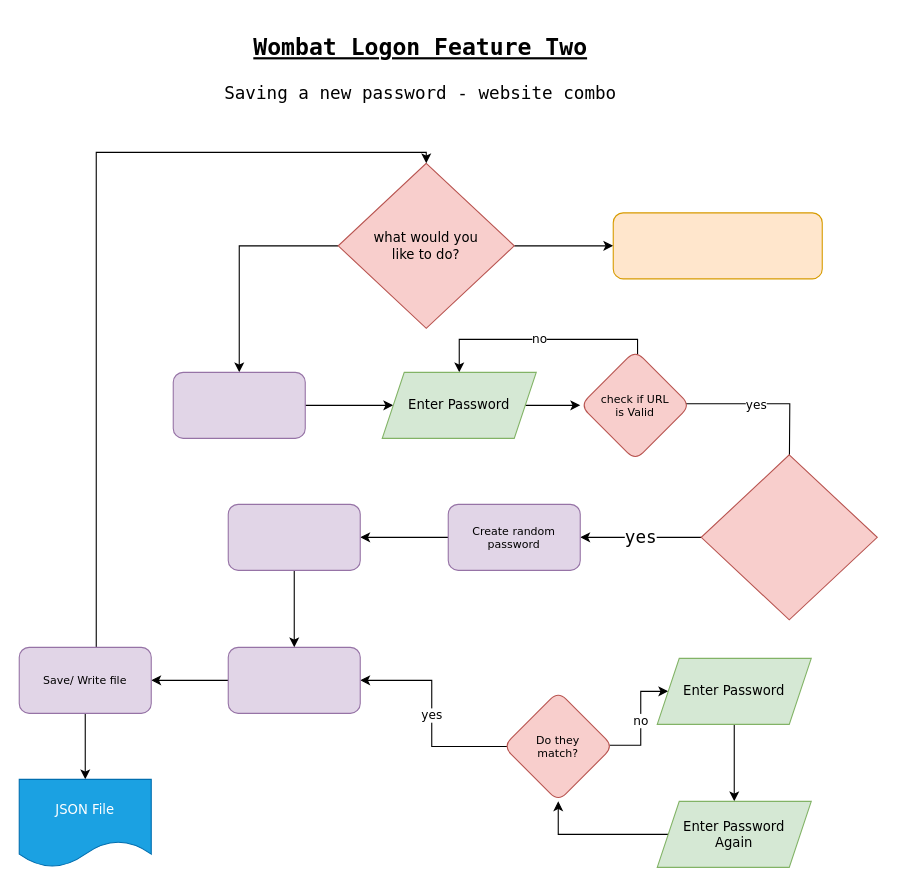
Image size: 897x887. Some labels were removed from this diagram. The shapes that lost their labels are listed below. From the top down, each one's centre as x and y in pixels, then its label:
point (717, 245): Look at saved passwords
point (238, 404): Create a new password
point (293, 536): Display password to user
point (788, 537): Do you want us to create you a secure password?
point (293, 679): Hash pasword
